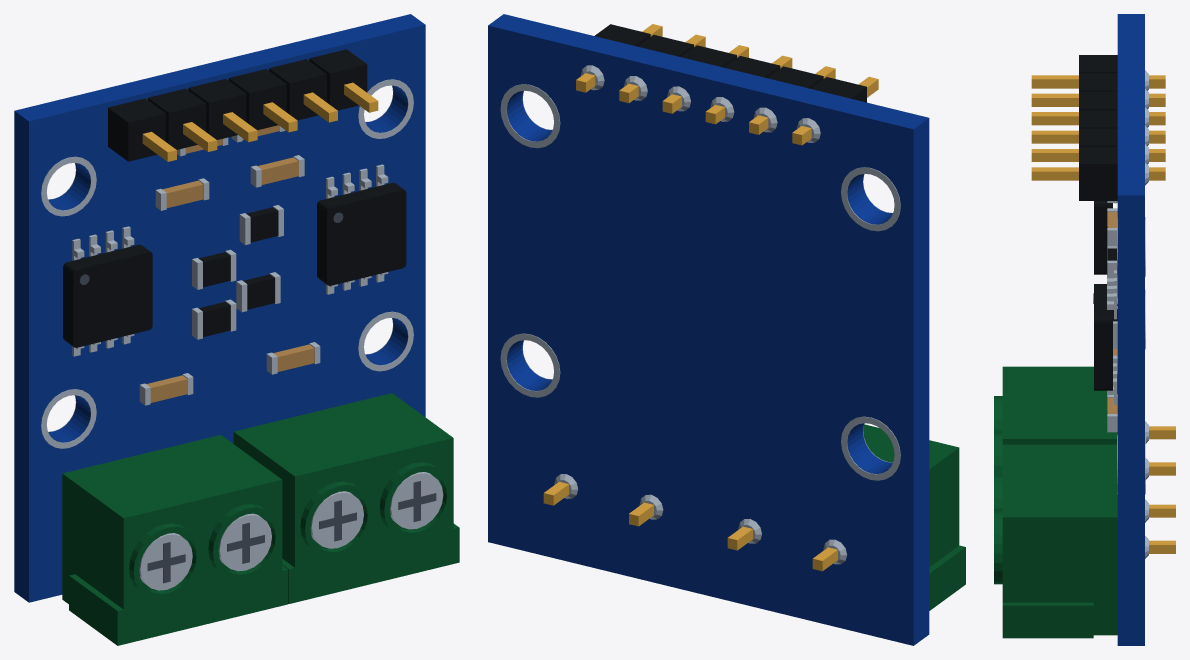
Rendered from dual_motor_driver.obj.
3 renders of one model, left to right at view 1: azimuth 30°, elevation 25°; view 2: azimuth 150°, elevation 25°; view 3: azimuth 270°, elevation 25°, orthographic. The views are drawn at different scales.
Parts seen in each view (by area): view 1: dual_motor_driver; view 2: dual_motor_driver; view 3: dual_motor_driver.
Boxes of the visible parts, bbox=[...] form: dual_motor_driver: bbox=[14, 14, 459, 645]; dual_motor_driver: bbox=[488, 14, 965, 645]; dual_motor_driver: bbox=[994, 14, 1175, 645].
Bounding box in the file's own units: 1.71 × 2 × 0.7235.
